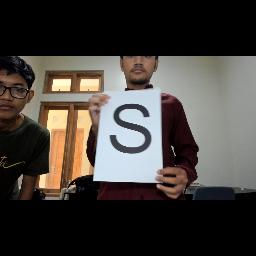s: (109, 103, 155, 155)
